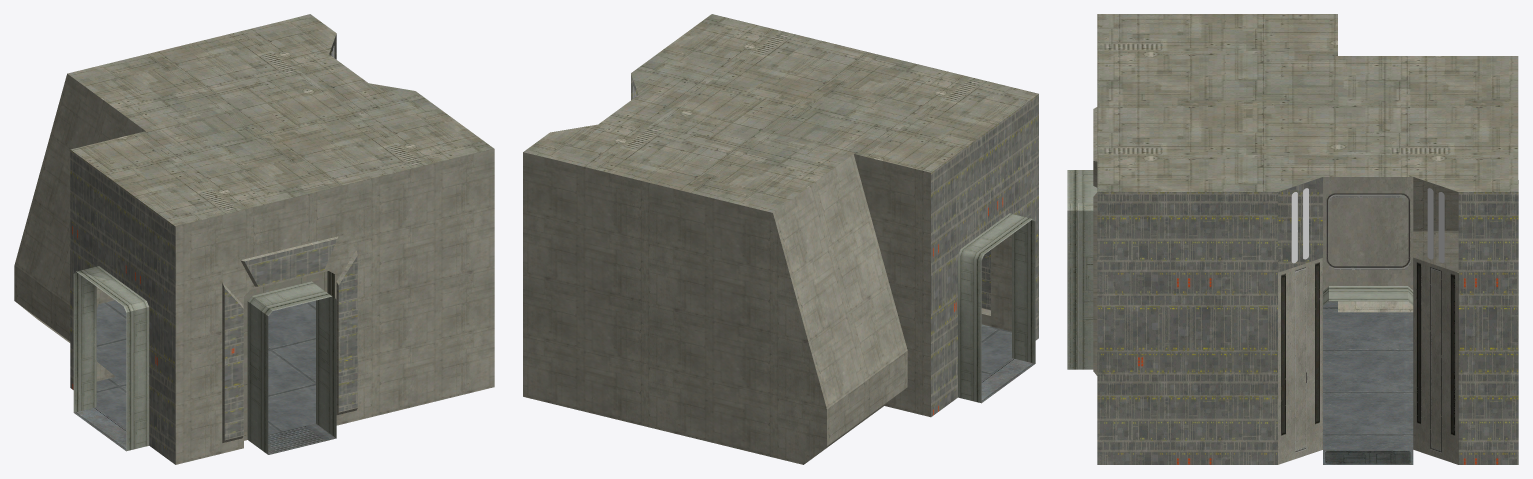
The model's file is thm_tato_fallen_star_r9_lobby01_mesh_r9.fbx.
3 renders of one model, left to right at view 1: azimuth 30°, elevation 25°; view 2: azimuth 150°, elevation 25°; view 3: azimuth 270°, elevation 25°, orthographic. The views are drawn at different scales.
Visible parts, largest first — view 1: mesh_node; view 2: mesh_node; view 3: mesh_node.
Boxes of the visible parts, x1,y1,x2,y2 form: mesh_node: (14,14,494,464); mesh_node: (523,14,1038,464); mesh_node: (1067,14,1518,464).
Size of the model in its own units: 7.5 by 5 by 7.5.
